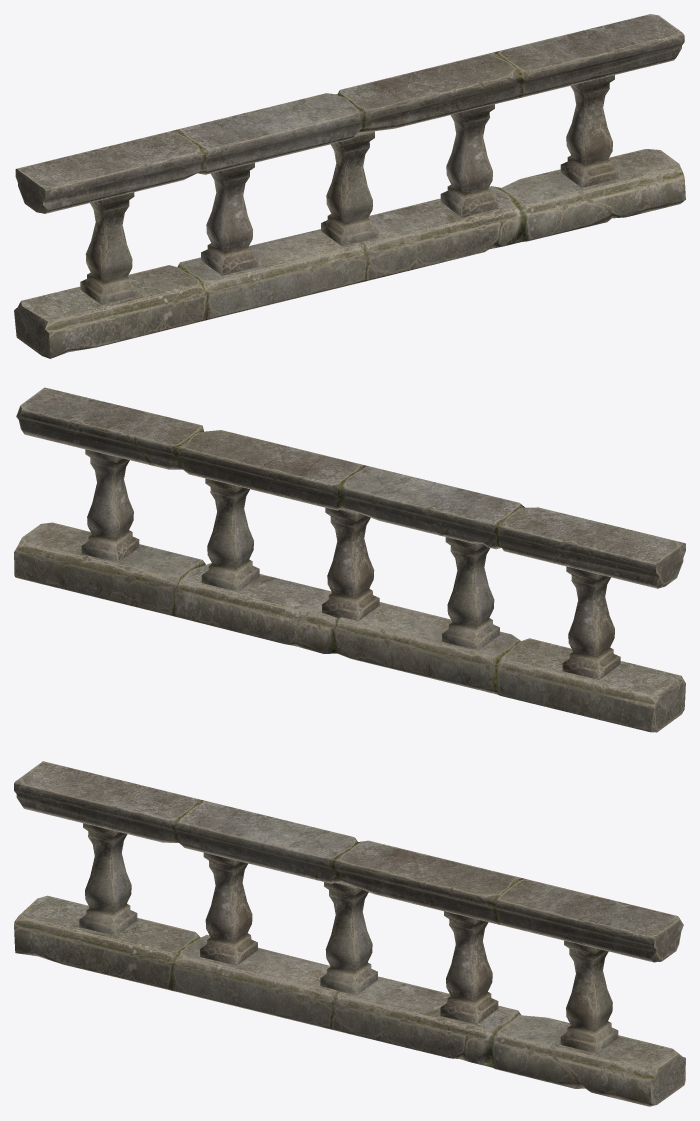
Rendered from SM_Ballustrade_01.fbx.
The picture shows the model from 3 angles, top to bottom: view 1: azimuth 30°, elevation 25°; view 2: azimuth 150°, elevation 25°; view 3: azimuth 330°, elevation 25°; orthographic projection.
Visible parts, largest first — view 1: SM_Ballustrade_01_LOD0; view 2: SM_Ballustrade_01_LOD0; view 3: SM_Ballustrade_01_LOD0.
Boxes of the visible parts, x1,y1,x2,y2 form: SM_Ballustrade_01_LOD0: (14, 14, 685, 358); SM_Ballustrade_01_LOD0: (14, 387, 685, 732); SM_Ballustrade_01_LOD0: (14, 761, 685, 1106).
Size of what is drawn, in the model's own units: 400 by 101 by 37.49.
1 material, 1 textured.
